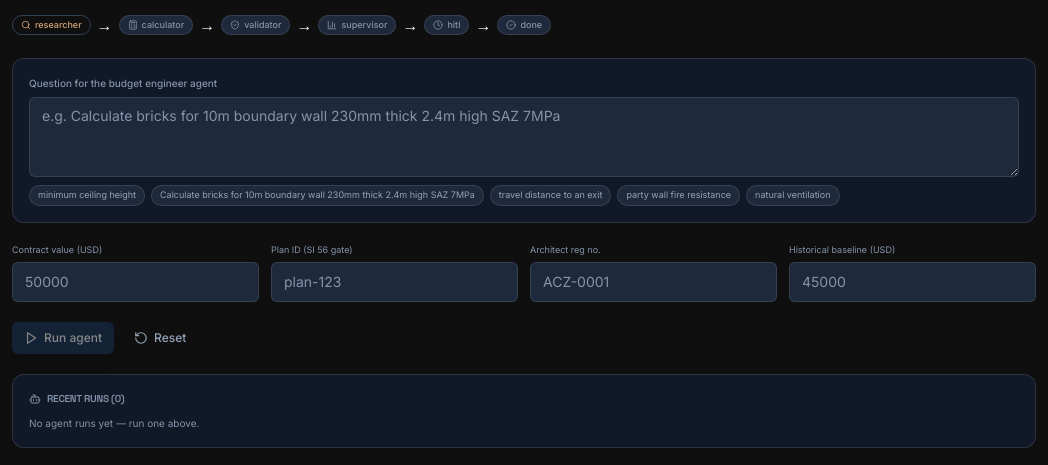
AgentRunnerPanel › fills the query from a preset chip
What coordinates should you click on to do the following:
click the button "minimum ceiling height"
I would click on:
 (87, 196)
Its box is x1=29 y1=185 x2=145 y2=206.
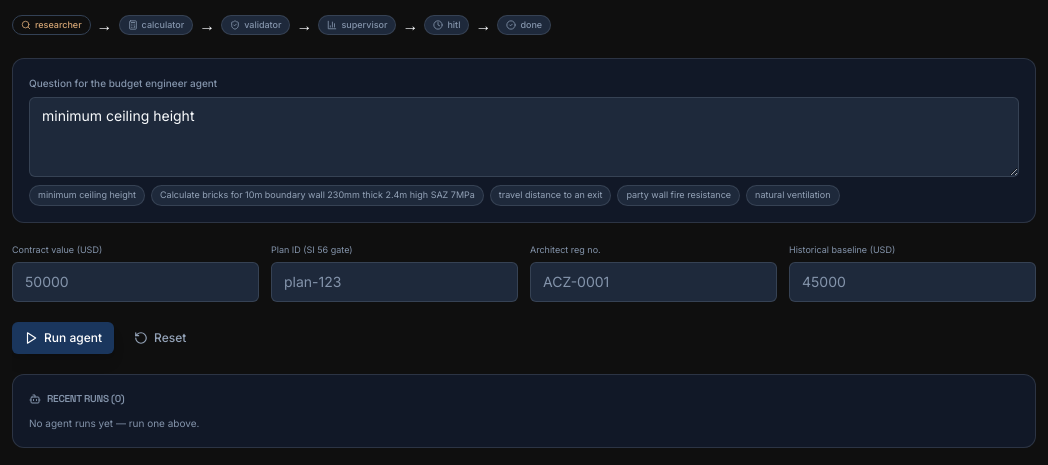
Check: the text box with test id "agent-query" holds "minimum ceiling height", box x1=29 y1=97 x2=1019 y2=177
